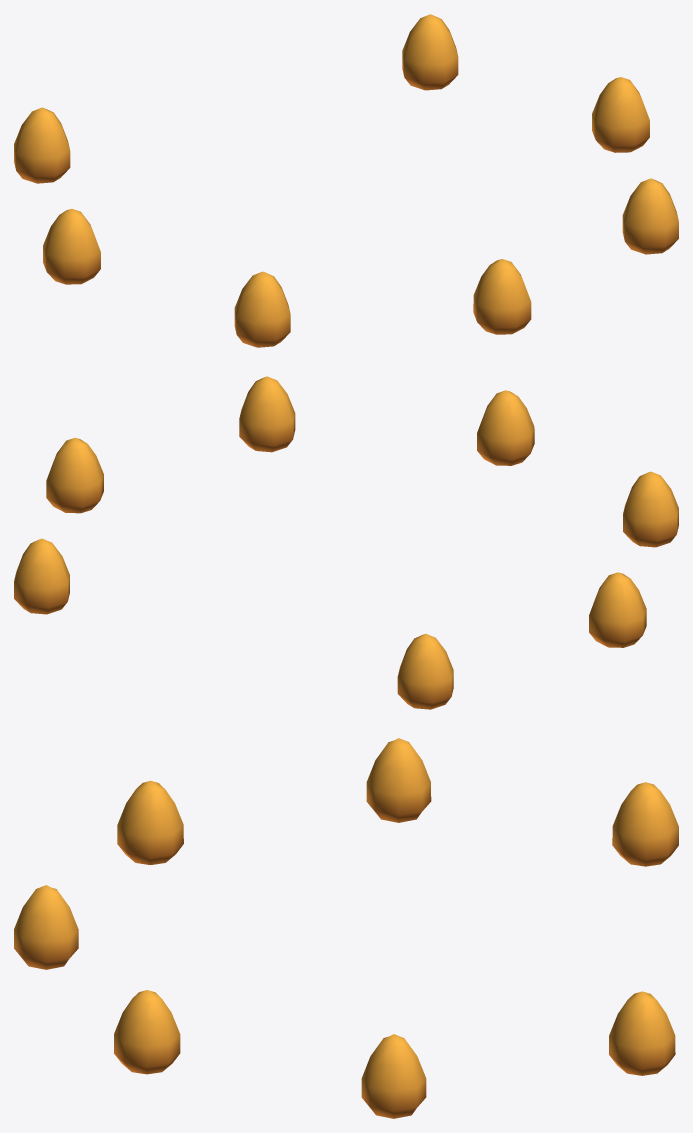
Rendered from cake_birthday_cut_candle_fire.obj.
3 views of the same model, one above another, from view 1: azimuth 30°, elevation 25°; view 2: azimuth 150°, elevation 25°; view 3: azimuth 270°, elevation 25° (orthographic). The views are drawn at different scales.
Visible parts, largest first — view 1: cake_birthday_cut_candle_fire; view 2: cake_birthday_cut_candle_fire; view 3: cake_birthday_cut_candle_fire.
Part boxes in pixels (<box>): cake_birthday_cut_candle_fire: <box>14,14,678,347</box>; cake_birthday_cut_candle_fire: <box>14,376,678,709</box>; cake_birthday_cut_candle_fire: <box>14,738,678,1118</box>.
Size of the model in its own units: 0.9232 by 0.1067 by 0.8027.
Materials: 1 (1 with a texture image).
